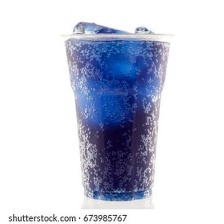glass: (57, 26, 181, 204)
